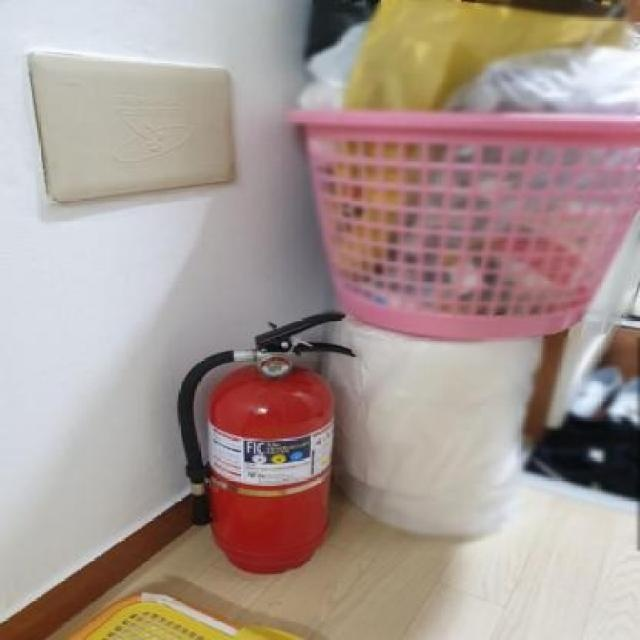fire extinguisher: (176, 309, 356, 575)
